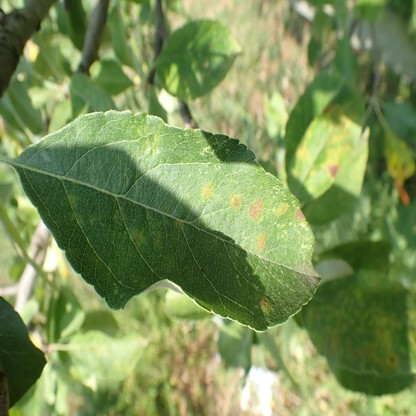scab: (309, 274, 416, 373), (298, 111, 359, 180), (67, 192, 93, 227), (128, 227, 145, 248), (249, 200, 262, 222), (257, 293, 271, 312), (227, 195, 241, 213), (112, 209, 127, 224), (202, 184, 214, 199), (257, 232, 266, 251), (276, 203, 287, 216), (175, 219, 184, 229)
